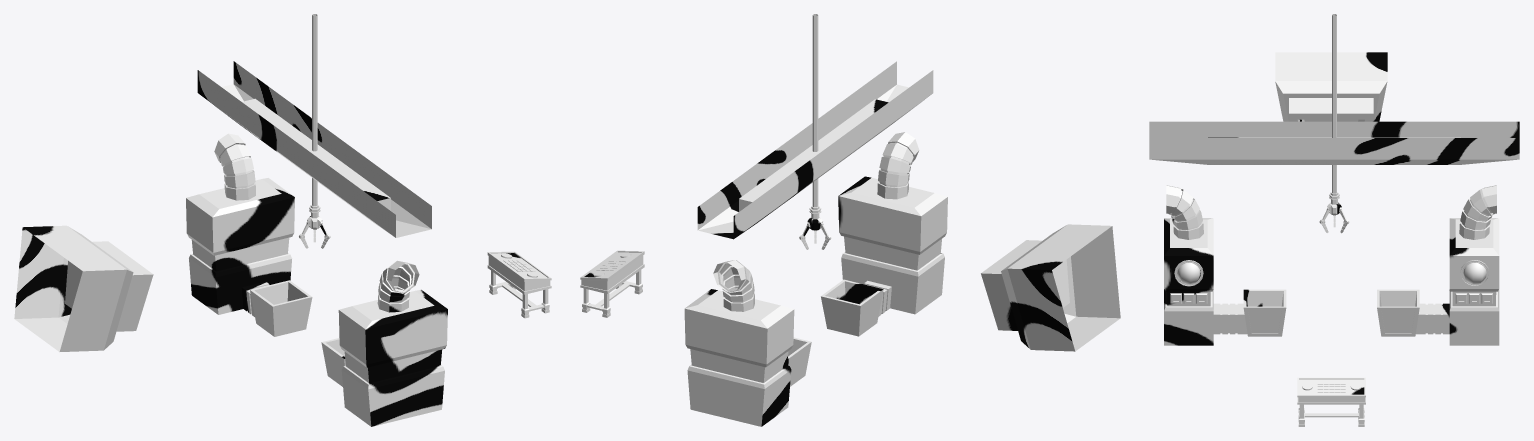
Rendered from PuzzleSet.fbx.
The picture shows the model from 3 angles, left to right: view 1: azimuth 30°, elevation 25°; view 2: azimuth 150°, elevation 25°; view 3: azimuth 270°, elevation 25°; orthographic projection. The views are drawn at different scales.
Parts seen in each view (by area): view 1: RecyclingMachine.001, RecyclingMachine, FabricVent, GrabRail, OperatorTable, GrabArm; view 2: RecyclingMachine, RecyclingMachine.001, FabricVent, GrabRail, OperatorTable, GrabArm; view 3: GrabRail, RecyclingMachine.001, RecyclingMachine, FabricVent, OperatorTable, GrabArm, RecyclingMachineEye, RecyclingMachineEye.001.
Part boxes in pixels (x1=…): RecyclingMachine.001: x1=186, y1=133, x2=312, y2=336; RecyclingMachine: x1=321, y1=260, x2=447, y2=426; FabricVent: x1=14, y1=225, x2=153, y2=351; GrabRail: x1=197, y1=61, x2=431, y2=237; OperatorTable: x1=487, y1=251, x2=551, y2=318; GrabArm: x1=307, y1=14, x2=322, y2=228; RecyclingMachine: x1=821, y1=132, x2=947, y2=336; RecyclingMachine.001: x1=684, y1=260, x2=811, y2=426; FabricVent: x1=981, y1=224, x2=1120, y2=351; GrabRail: x1=697, y1=61, x2=933, y2=239; OperatorTable: x1=580, y1=250, x2=644, y2=317; GrabArm: x1=807, y1=14, x2=822, y2=230; GrabRail: x1=1149, y1=121, x2=1519, y2=164; RecyclingMachine.001: x1=1377, y1=185, x2=1499, y2=345; RecyclingMachine: x1=1164, y1=185, x2=1286, y2=345; FabricVent: x1=1275, y1=52, x2=1387, y2=121; OperatorTable: x1=1297, y1=377, x2=1365, y2=426; GrabArm: x1=1327, y1=14, x2=1341, y2=214; RecyclingMachineEye: x1=1463, y1=263, x2=1486, y2=284; RecyclingMachineEye.001: x1=1177, y1=263, x2=1200, y2=284.
Size of the model in its own units: 4478 by 2902 by 3099.
